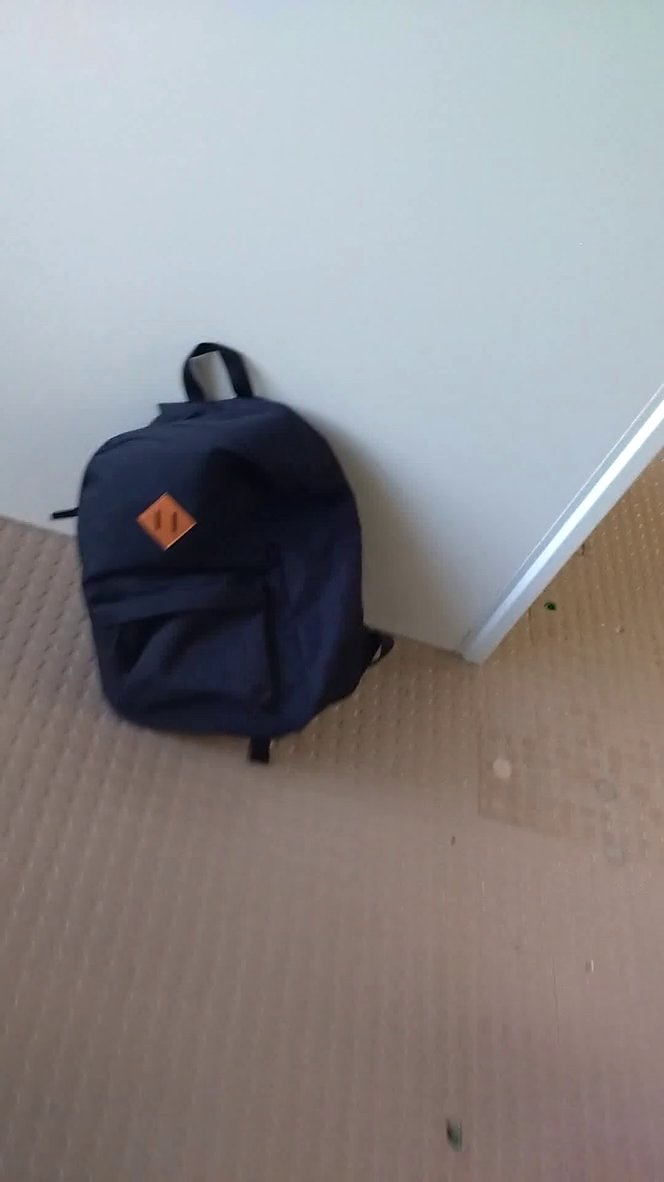bag: (43, 329, 413, 783)
